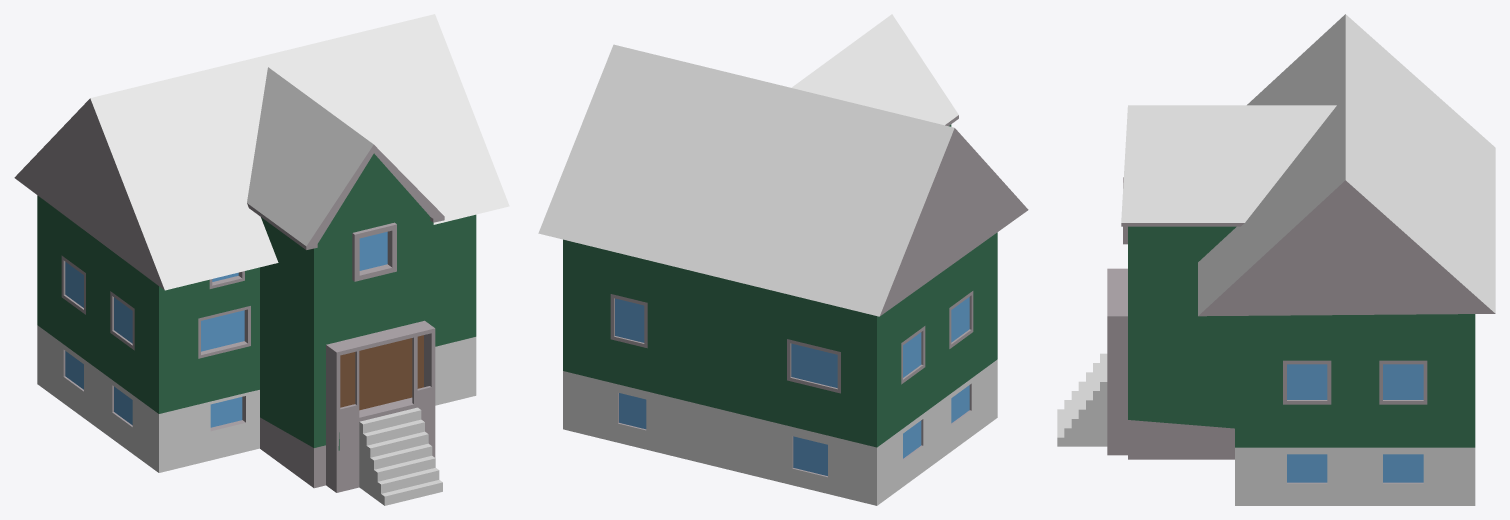
Rendered from House1.fbx.
The picture shows the model from 3 angles, left to right: view 1: azimuth 30°, elevation 25°; view 2: azimuth 150°, elevation 25°; view 3: azimuth 270°, elevation 25°; orthographic projection.
Parts seen in each view (by area): view 1: Roof.004, Block.Base.004, Block.Front.002, Roof.005, Upper.002; view 2: Block.Base.004, Roof.004, Roof.005; view 3: Roof.004, Block.Base.004, Block.Front.002, Roof.005, Upper.002.
Boxes of the visible parts, left/top/right/bottom form: Roof.004: left=14, top=14, right=509, bottom=290; Block.Base.004: left=37, top=195, right=476, bottom=472; Block.Front.002: left=260, top=153, right=435, bottom=492; Roof.005: left=247, top=67, right=444, bottom=249; Upper.002: left=359, top=407, right=442, bottom=505; Block.Base.004: left=563, top=232, right=997, bottom=505; Roof.004: left=538, top=44, right=1028, bottom=316; Roof.005: left=791, top=14, right=958, bottom=125; Roof.004: left=1198, top=14, right=1495, bottom=316; Block.Base.004: left=1235, top=314, right=1475, bottom=505; Block.Front.002: left=1107, top=177, right=1236, bottom=459; Roof.005: left=1121, top=105, right=1336, bottom=226; Upper.002: left=1057, top=353, right=1107, bottom=446.
Bounding box in the file's own units: 320 × 300 × 357.
